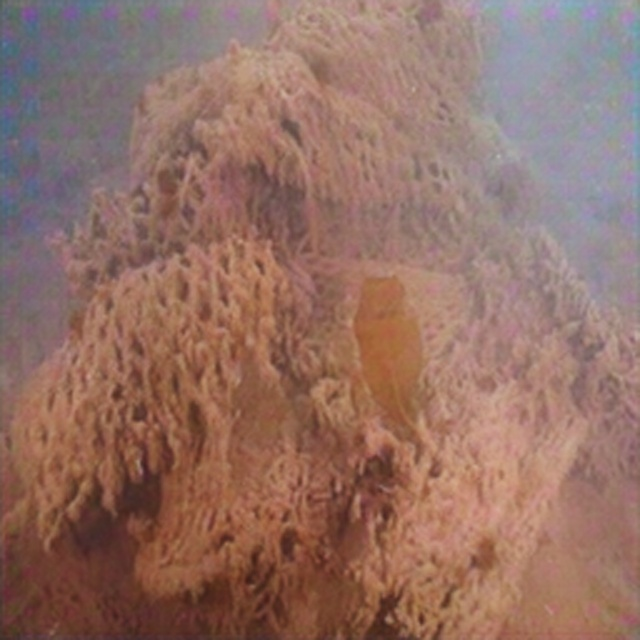mine: (5, 0, 626, 640)
